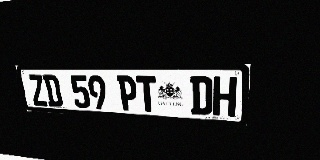5: (70, 75, 91, 109)
9: (87, 75, 108, 110)
D: (190, 76, 213, 115), (42, 75, 64, 107)
H: (213, 76, 237, 117)
P: (117, 75, 139, 111)
T: (136, 76, 158, 112)
Z: (27, 75, 48, 106)
